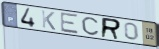0: (123, 22, 141, 42)
4: (20, 7, 37, 30)
C: (81, 16, 100, 37)
E: (60, 12, 80, 36)
K: (41, 9, 57, 32)
R: (100, 16, 122, 41)
